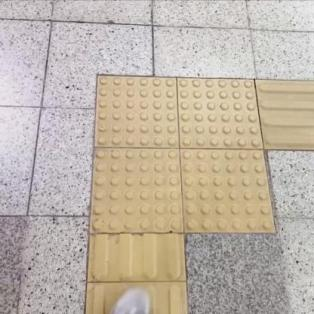Podoctatil: (78, 42, 290, 254)
